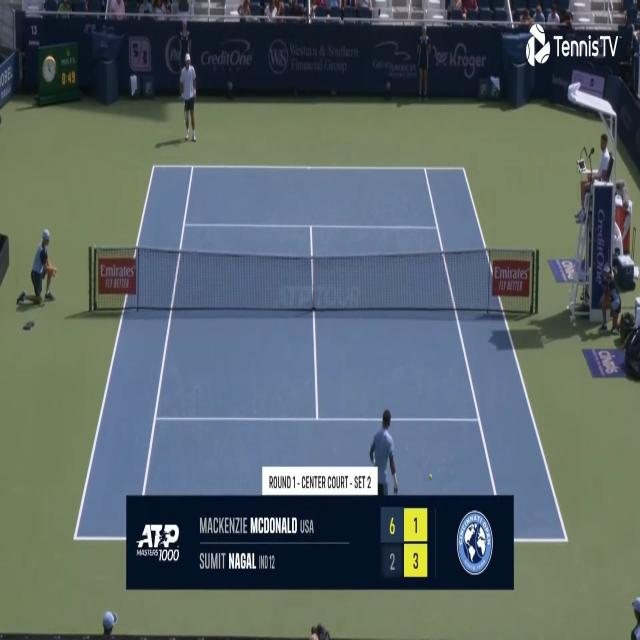tennis-player: (369, 406, 399, 494), (179, 51, 198, 143)
